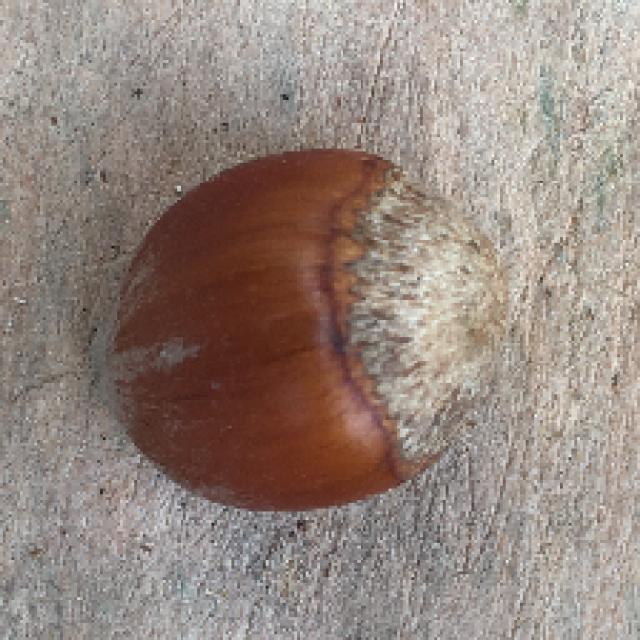QualityHazelnut: (91, 146, 508, 515)
